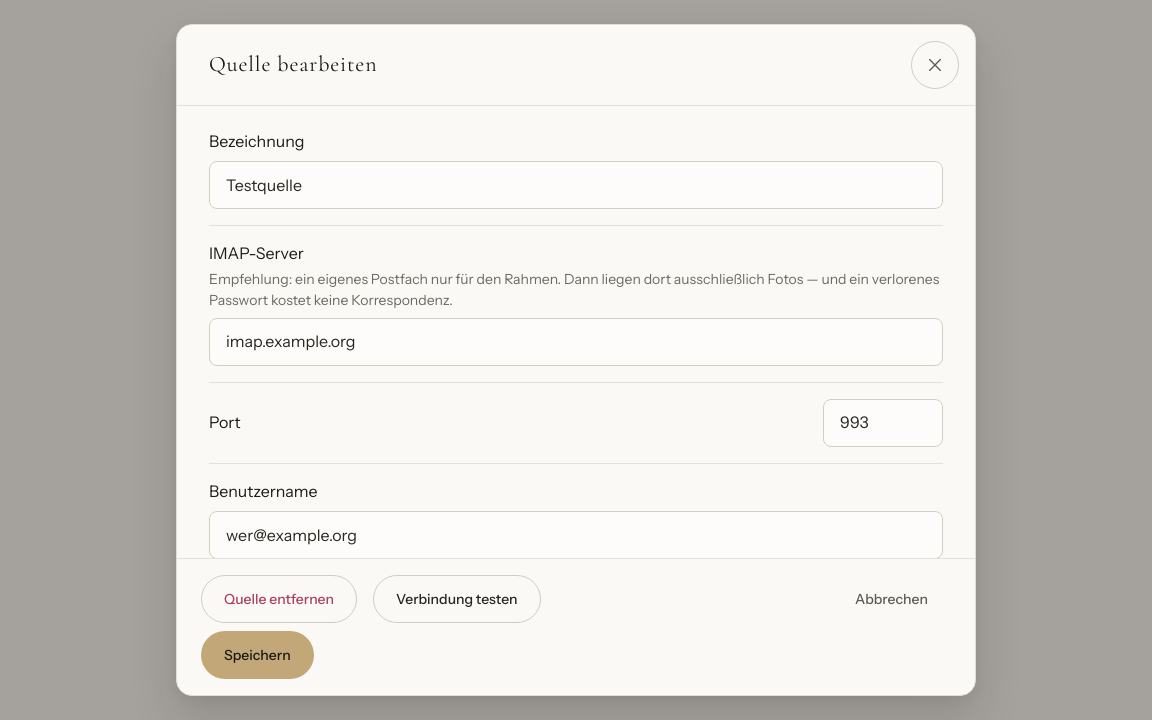
Test: SourceDialog — Felder je Quellenart › meldet das Ergebnis des Verbindungstests in der Fusszeile
The image size is (1152, 720).
What coordinates should you click on to do the following:
click the button "Verbindung testen"
I would click on:
 (457, 599)
Its box is [373,575,540,623].
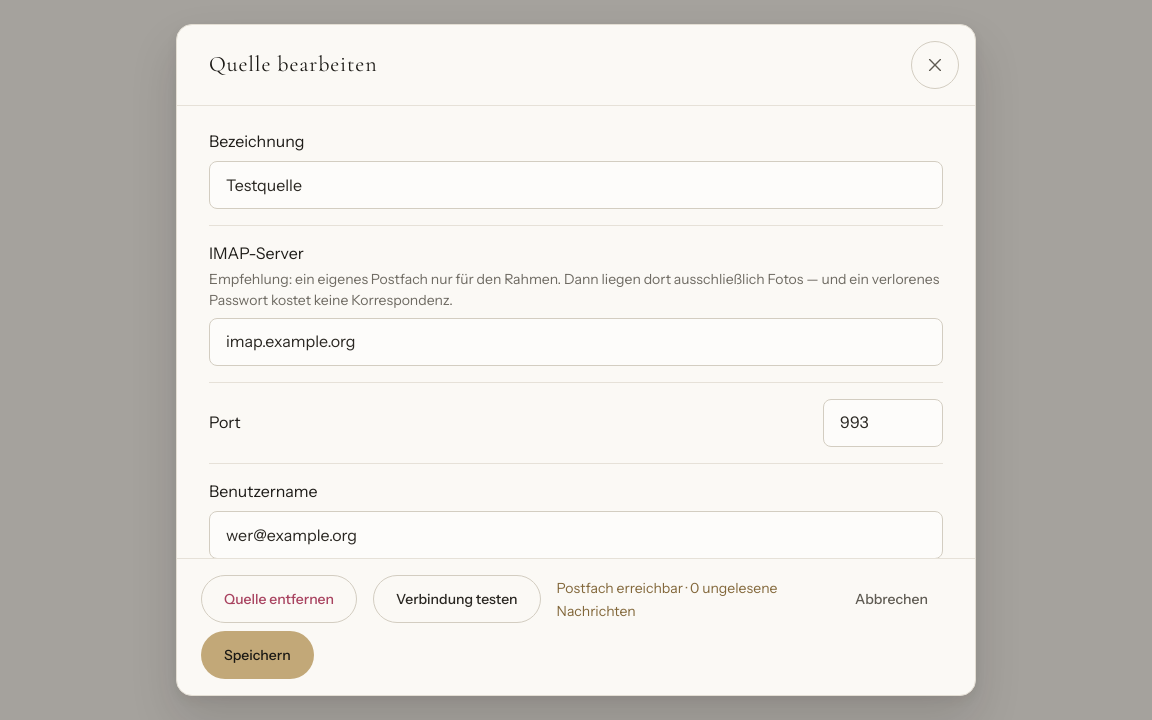
Expected: the message "Postfach erreichbar · 0 ungelesene Nachrichten" is shown, [557,579,778,620]
